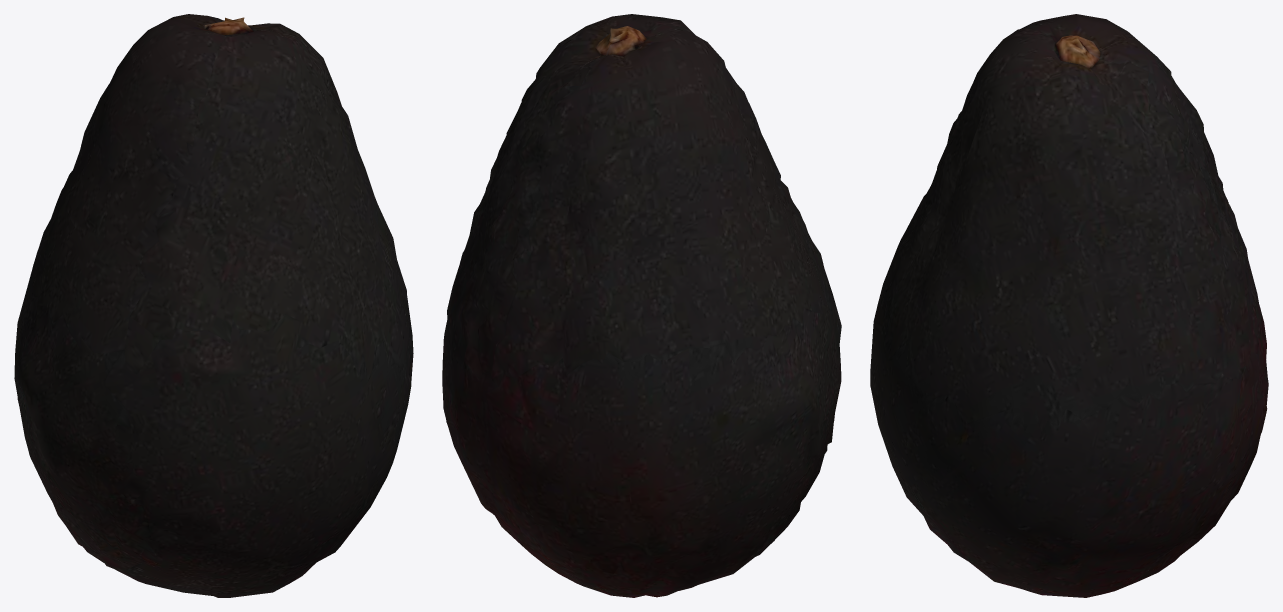
Rendered from food_avocado_01.glb.
3 renders of one model, left to right at view 1: azimuth 30°, elevation 25°; view 2: azimuth 150°, elevation 25°; view 3: azimuth 270°, elevation 25°, orthographic. The views are drawn at different scales.
Parts seen in each view (by area): view 1: food_avocado_01; view 2: food_avocado_01; view 3: food_avocado_01.
Part boxes in pixels (x1=…): food_avocado_01: x1=14, y1=14, x2=413, y2=597; food_avocado_01: x1=442, y1=14, x2=841, y2=597; food_avocado_01: x1=870, y1=14, x2=1268, y2=597.
Bounding box in the file's own units: 0.0951 × 0.1432 × 0.0946.
Materials: 1 (1 with a texture image).
